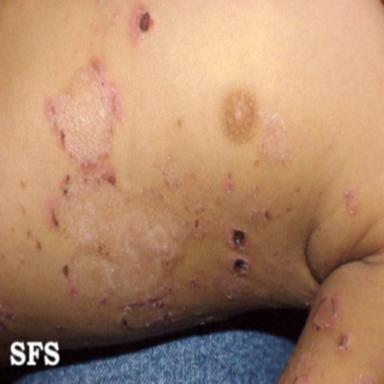Impetigo: (41, 53, 283, 333), (260, 113, 291, 167), (309, 292, 343, 332), (127, 4, 156, 44), (334, 329, 354, 356), (344, 188, 358, 217)
